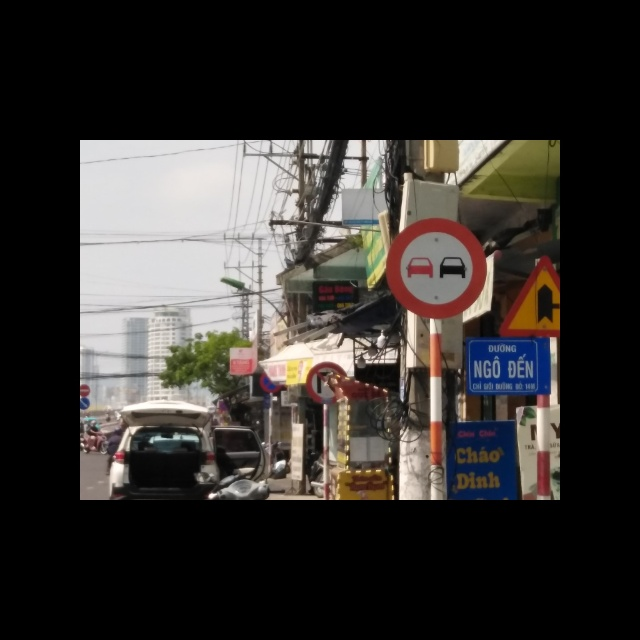Cấm vượt: (386, 216, 489, 320)
Giao nhau với đường không ưu tiên: (497, 252, 559, 338)
